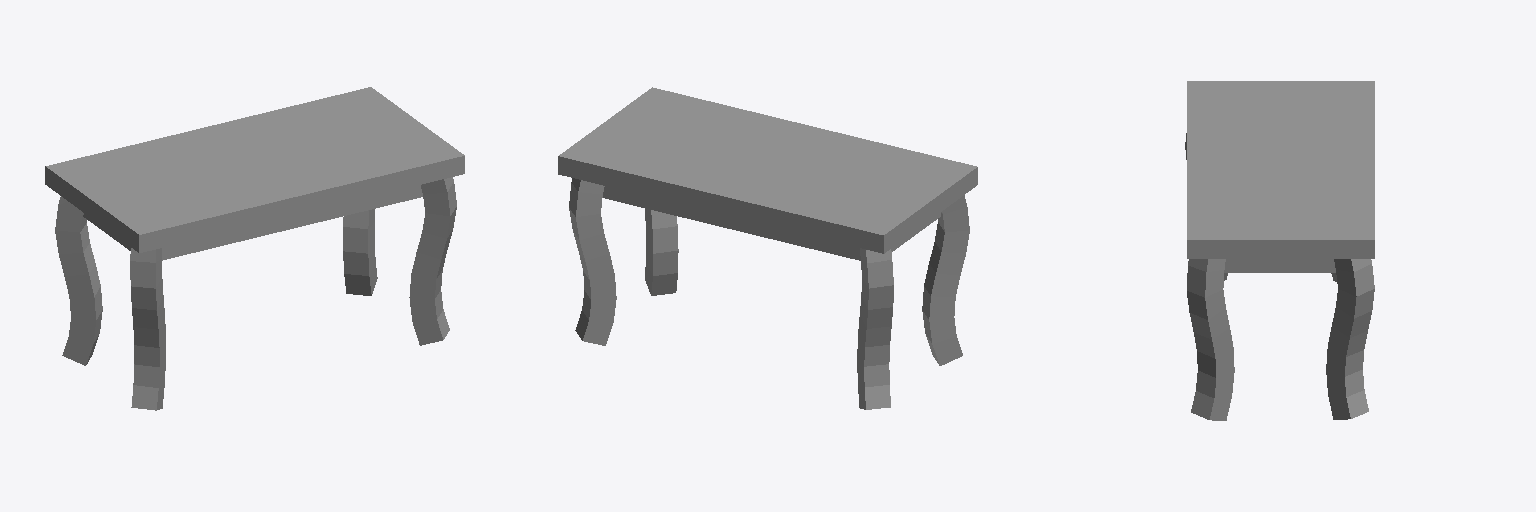
The model's file is simple_wooden_table.obj.
3 renders of one model, left to right at view 1: azimuth 30°, elevation 25°; view 2: azimuth 150°, elevation 25°; view 3: azimuth 270°, elevation 25°, orthographic.
Visible parts, largest first — view 1: Cube.007_Cube.009; view 2: Cube.007_Cube.009; view 3: Cube.007_Cube.009.
Boxes of the visible parts, box(x1,y1,x2,y2) form: Cube.007_Cube.009: box(45, 87, 464, 410); Cube.007_Cube.009: box(558, 87, 977, 409); Cube.007_Cube.009: box(1185, 81, 1374, 420).
Bounding box in the file's own units: 4.02 × 2.23 × 2.02.